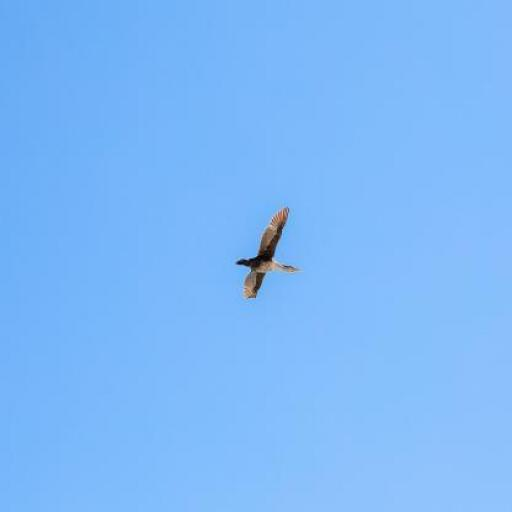bird: (236, 206, 306, 299)
